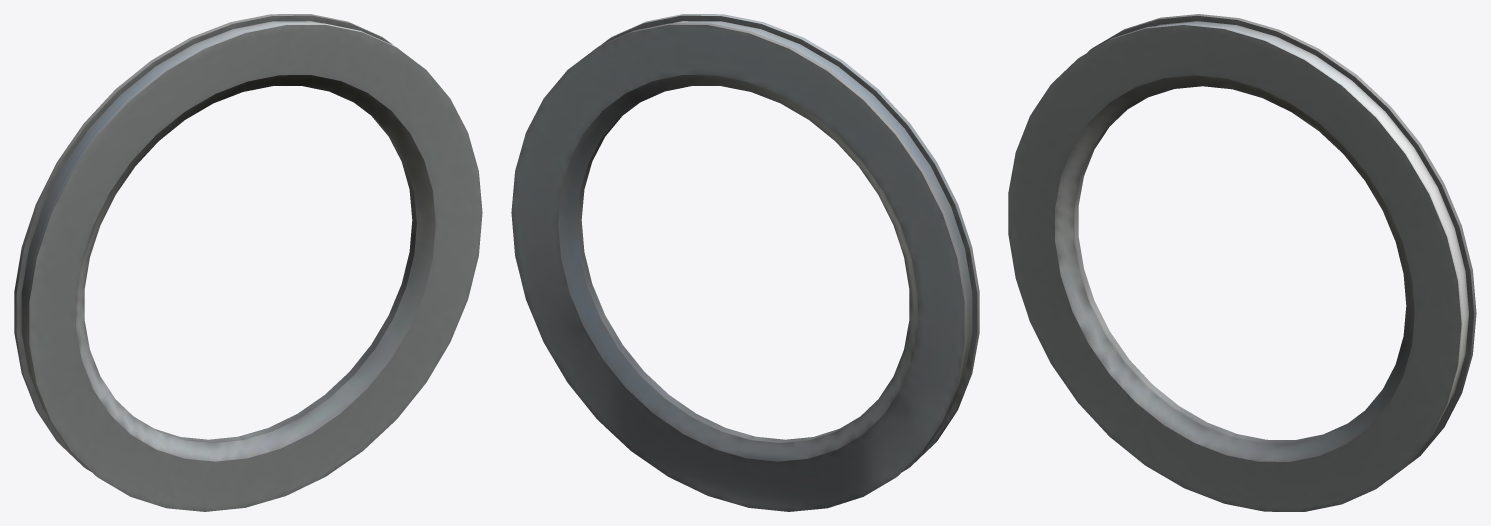
Rendered from windpowergenerator_inside_2001_03.obj.
3 renders of one model, left to right at view 1: azimuth 30°, elevation 25°; view 2: azimuth 150°, elevation 25°; view 3: azimuth 330°, elevation 25°, orthographic.
Parts seen in each view (by area): view 1: polySurface156; view 2: polySurface156; view 3: polySurface156.
Part boxes in pixels (x1,y1,x2,y2): polySurface156: (14, 14, 482, 511); polySurface156: (511, 14, 979, 511); polySurface156: (1008, 14, 1476, 511).
Bounding box in the file's own units: 408 × 409 × 23.35.
1 material, 1 textured.
